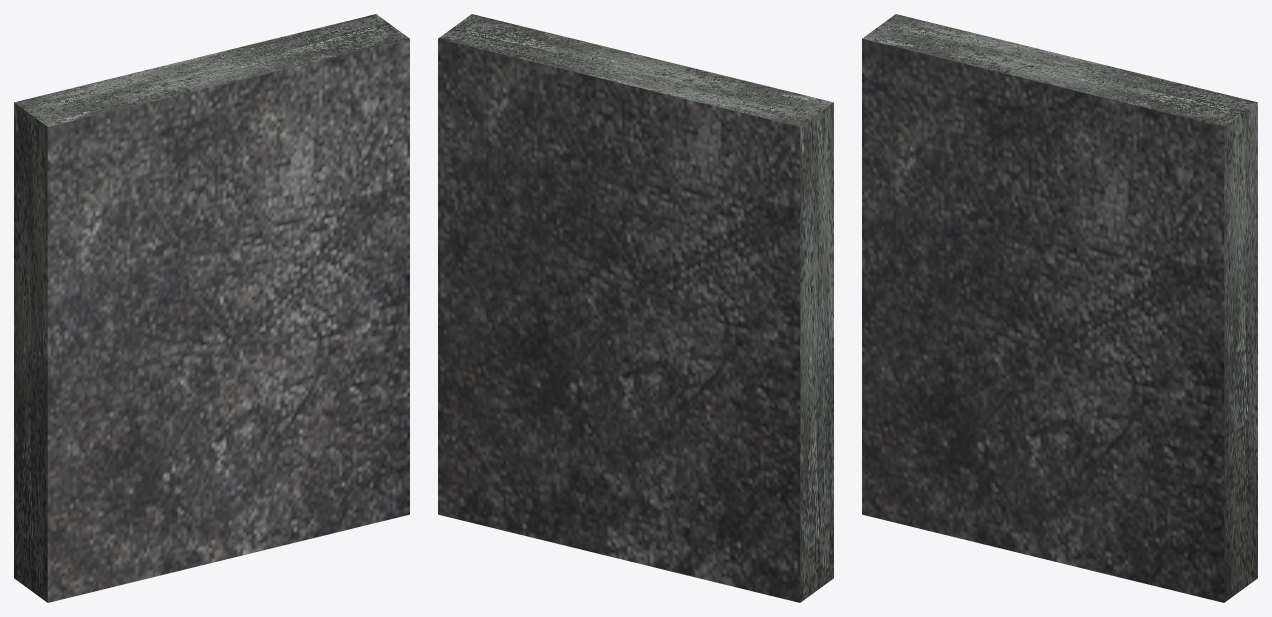
The model's file is monkeylabwall1.gltf.
3 views of the same model, side by side, from view 1: azimuth 30°, elevation 25°; view 2: azimuth 150°, elevation 25°; view 3: azimuth 330°, elevation 25° (orthographic).
Parts seen in each view (by area): view 1: Cube; view 2: Cube; view 3: Cube.
Boxes of the visible parts, <box> form: Cube: <box>14,14,409,602</box>; Cube: <box>438,14,833,602</box>; Cube: <box>862,14,1257,602</box>.
Bounding box in the file's own units: 3.98 × 5 × 0.641.
1 material, 1 textured.
